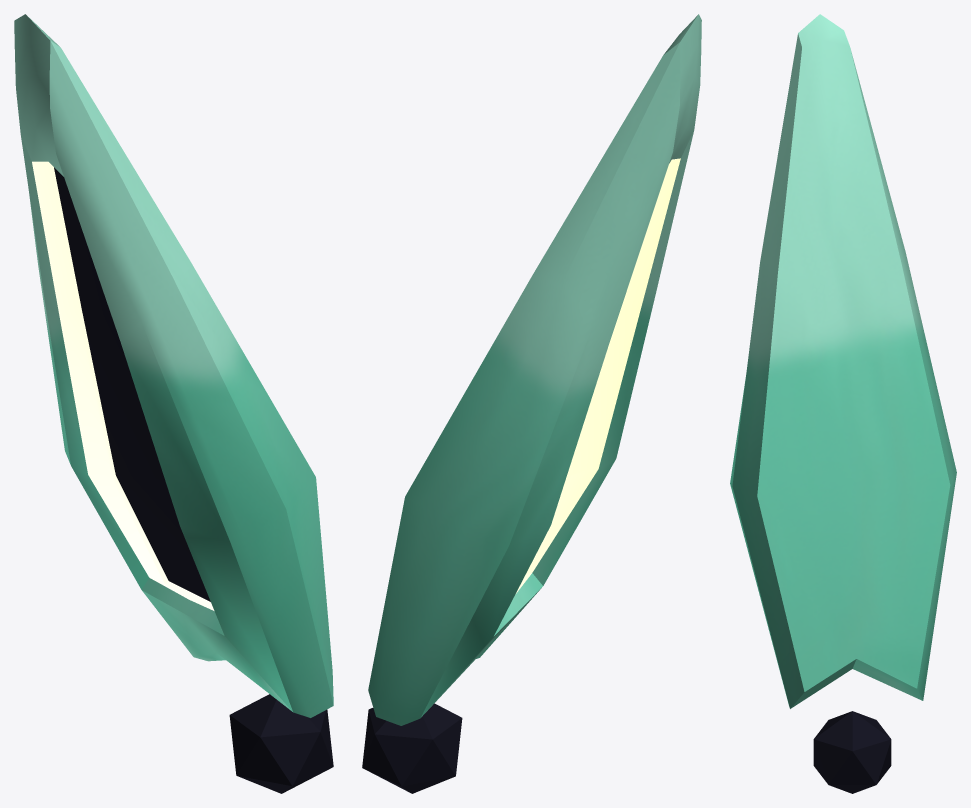
File: CenouraOrelhaB.fbx
3 views of the same model, side by side, from view 1: azimuth 30°, elevation 25°; view 2: azimuth 150°, elevation 25°; view 3: azimuth 270°, elevation 25° (orthographic). The views are drawn at different scales.
Parts seen in each view (by area): view 1: OrelhaB; view 2: OrelhaB; view 3: OrelhaB.
Part boxes in pixels (<box>): OrelhaB: <box>14,14,333,793</box>; OrelhaB: <box>362,14,701,793</box>; OrelhaB: <box>730,14,956,793</box>.
Bounding box in the file's own units: 4.56 × 11.68 × 3.56.
